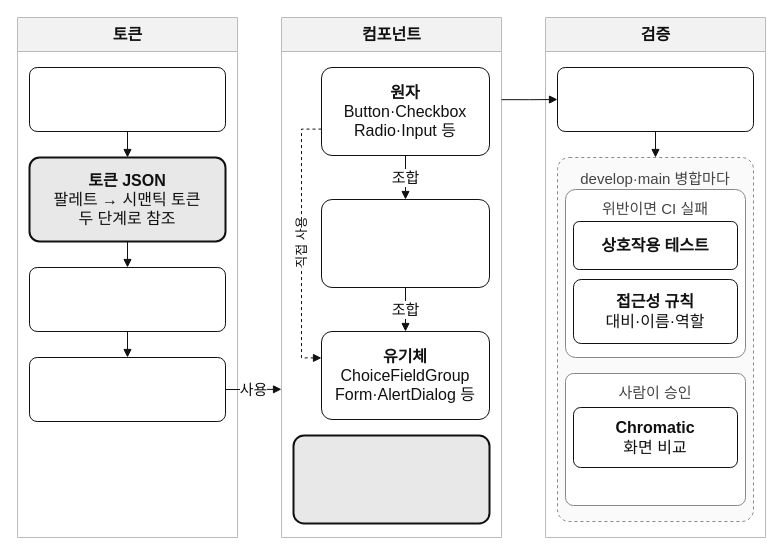
This 783x555 diagram has some shape labels left out. Each missing label, with the centre of its shape:
"Figma 변수 디자이너가 정한 값" goes at (127,99).
"SCSS 변수 없는 이름은 빌드 오류" goes at (127,389).
"Storybook 스토리 컴포넌트 상태별" goes at (655,99).
"Style Dictionary CI에서 매번 생성" goes at (127,299).
"분자 ChoiceField TextField 등" goes at (405,243).
"상태 관리 선택 값: 제어 컴포넌트 다이얼로그: Provider" goes at (391,479).
